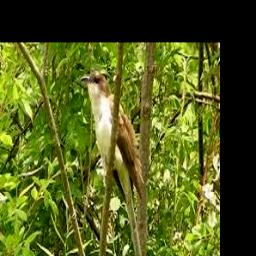Cuckoo: (80, 73, 144, 199)
